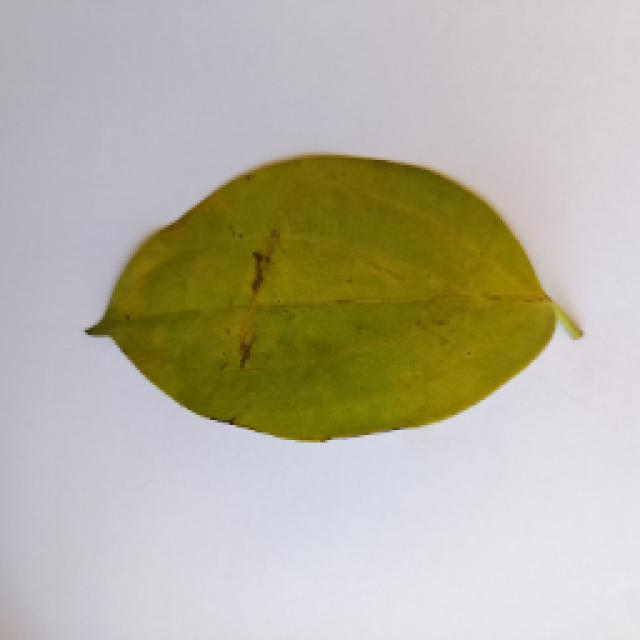slow-decline: (72, 140, 590, 442)
